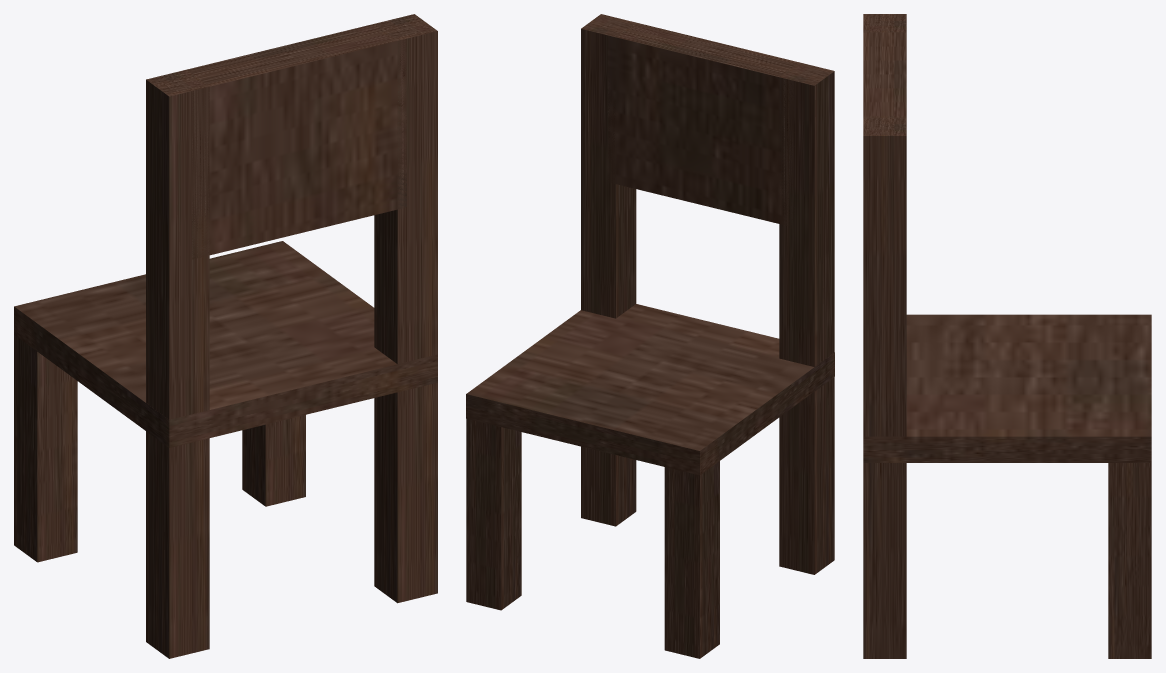
File: bangku_gelap.gltf
The picture shows the model from 3 angles, left to right: view 1: azimuth 30°, elevation 25°; view 2: azimuth 150°, elevation 25°; view 3: azimuth 270°, elevation 25°; orthographic projection. The views are drawn at different scales.
Visible parts, largest first — view 1: Cube, Cube.005, Cube.003, Cube.002, Cube.004, Cube.001; view 2: Cube, Cube.005, Cube.003, Cube.002, Cube.004, Cube.001; view 3: Cube, Cube.002, Cube.001, Cube.005, Cube.003.
Part boxes in pixels (bbox=[...]): Cube: bbox=[14, 241, 437, 447]; Cube.005: bbox=[186, 24, 406, 259]; Cube.003: bbox=[146, 70, 209, 658]; Cube.002: bbox=[374, 14, 437, 603]; Cube.004: bbox=[14, 335, 77, 562]; Cube.001: bbox=[242, 415, 305, 506]; Cube: bbox=[466, 304, 834, 475]; Cube.005: bbox=[607, 22, 799, 226]; Cube.003: bbox=[779, 62, 834, 574]; Cube.002: bbox=[581, 14, 636, 526]; Cube.004: bbox=[664, 461, 719, 658]; Cube.001: bbox=[466, 418, 521, 610]; Cube: bbox=[863, 314, 1151, 462]; Cube.002: bbox=[863, 117, 906, 658]; Cube.001: bbox=[1108, 463, 1151, 658]; Cube.005: bbox=[863, 32, 906, 117]; Cube.003: bbox=[863, 14, 906, 32].
Bounding box in the file's own units: 1 × 2 × 1.
Materials: 6 (6 with a texture image).
